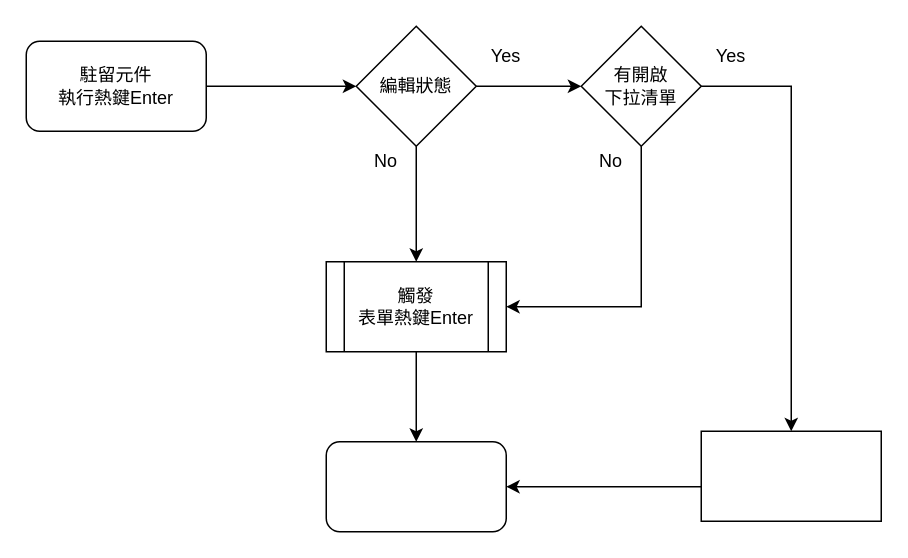
The diagram is 908 pixels wide and 558 high, and some of its shapes have lost their labels. Each missing label, with the centre of its shape:
"執行完畢" belongs at point 415,486.
"關閉下拉清單 勾選駐留筆到元件" belongs at point 790,475.
